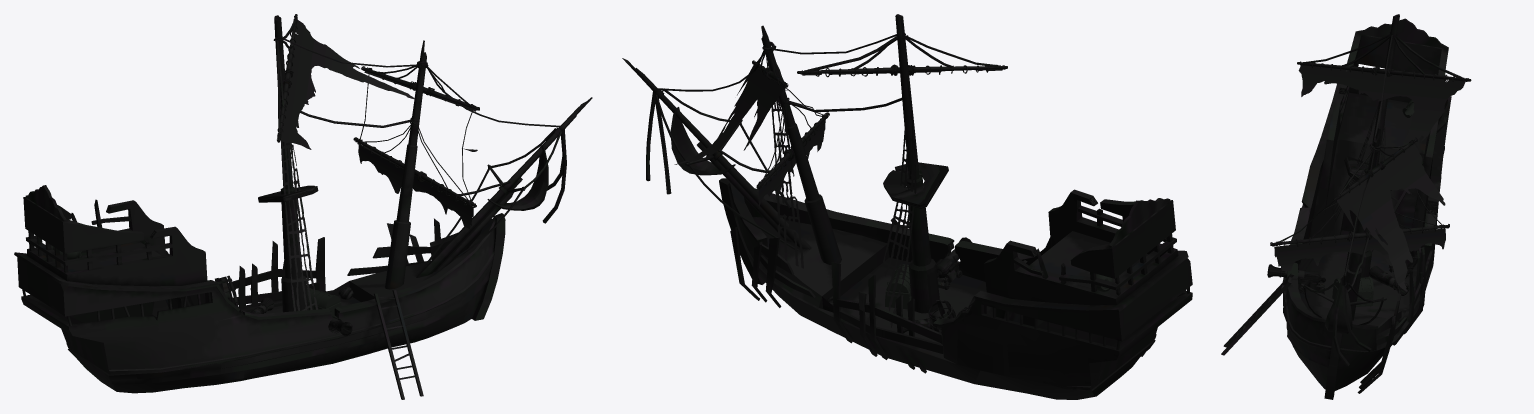
Rendered from ship_broken001.fbx.
The picture shows the model from 3 angles, left to right: view 1: azimuth 30°, elevation 25°; view 2: azimuth 150°, elevation 25°; view 3: azimuth 270°, elevation 25°; orthographic projection. The views are drawn at different scales.
Visible parts, largest first — view 1: ship_broken001; view 2: ship_broken001; view 3: ship_broken001.
Boxes of the visible parts, left/top/right/bottom form: ship_broken001: left=14, top=14, right=592, bottom=399; ship_broken001: left=622, top=14, right=1192, bottom=399; ship_broken001: left=1221, top=14, right=1471, bottom=399.
Bounding box in the file's own units: 1170 × 688 × 590.
